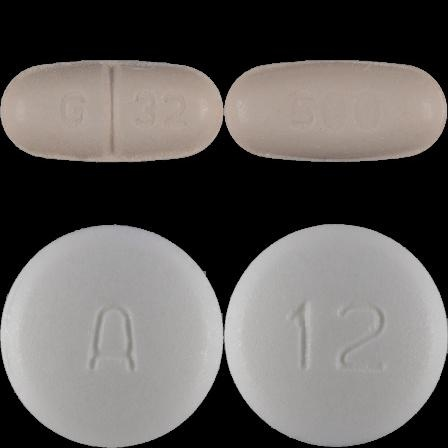0179-1978: (0, 0, 224, 224)
